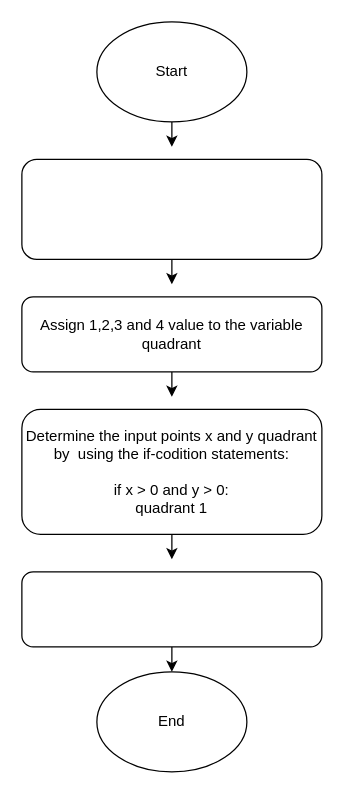
Image size: 344x794. Some labels were removed from this diagram. Each missing label, with the centre of its shape:
Enter two integers for the x and y coordinate values: pixel 171 208
Print quadrant based on x and y points: pixel 171 609
